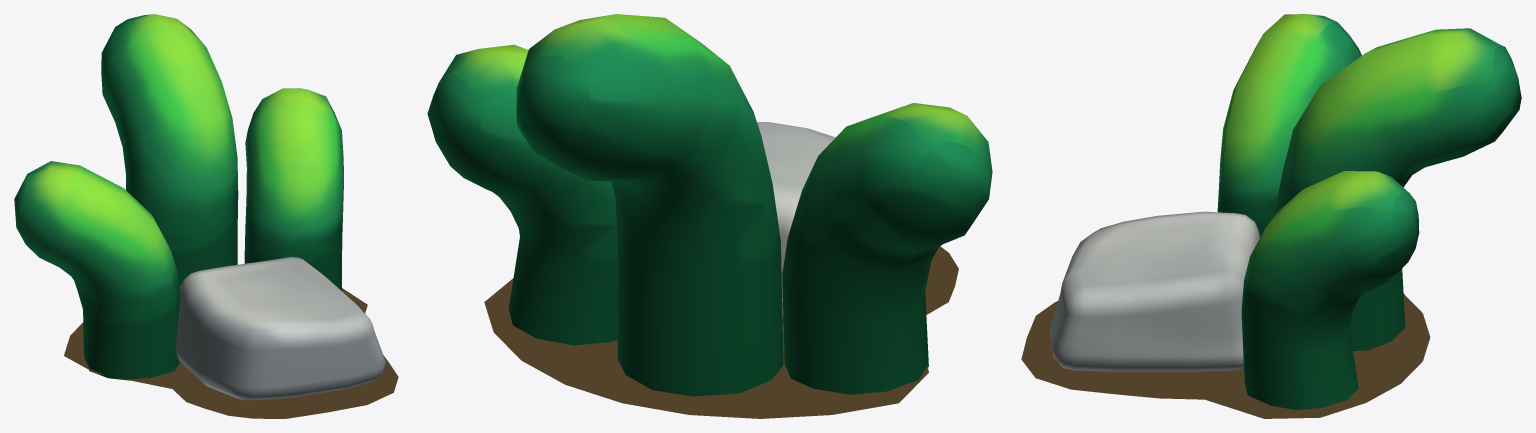
The model's file is GrassRock.fbx.
3 renders of one model, left to right at view 1: azimuth 30°, elevation 25°; view 2: azimuth 150°, elevation 25°; view 3: azimuth 270°, elevation 25°, orthographic. The views are drawn at different scales.
Visible parts, largest first — view 1: GR_body, GR_SDW; view 2: GR_body, GR_SDW; view 3: GR_body, GR_SDW.
Part boxes in pixels (bbox=[...]): GR_body: bbox=[14, 14, 385, 400]; GR_SDW: bbox=[64, 288, 398, 418]; GR_body: bbox=[427, 14, 992, 396]; GR_SDW: bbox=[484, 246, 958, 418]; GR_body: bbox=[1049, 14, 1521, 410]; GR_SDW: bbox=[1021, 294, 1430, 418].
Size of the model in its own units: 45.9 by 33.67 by 48.74.
